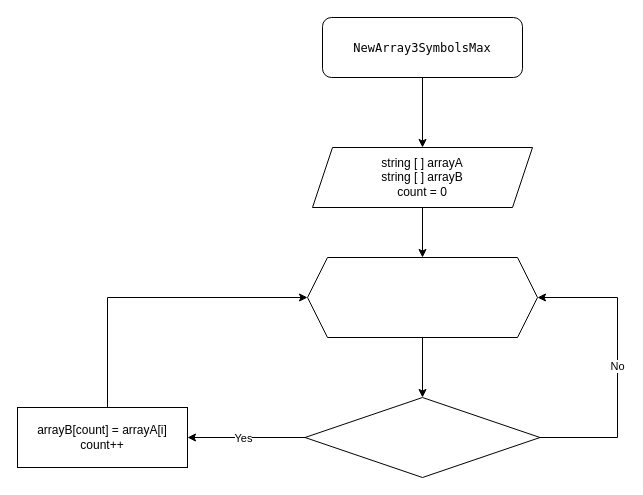
The diagram is 643 pixels wide and 495 high, and some of its shapes have lost their labels. Here are the shapes that lost their labels. From the top down, the centre of each, then its label:
At point 422,297: "for (i = 0; i < arrayA.Lenght; i++)".
At point 422,437: "arrayA[i] <= 3?".
